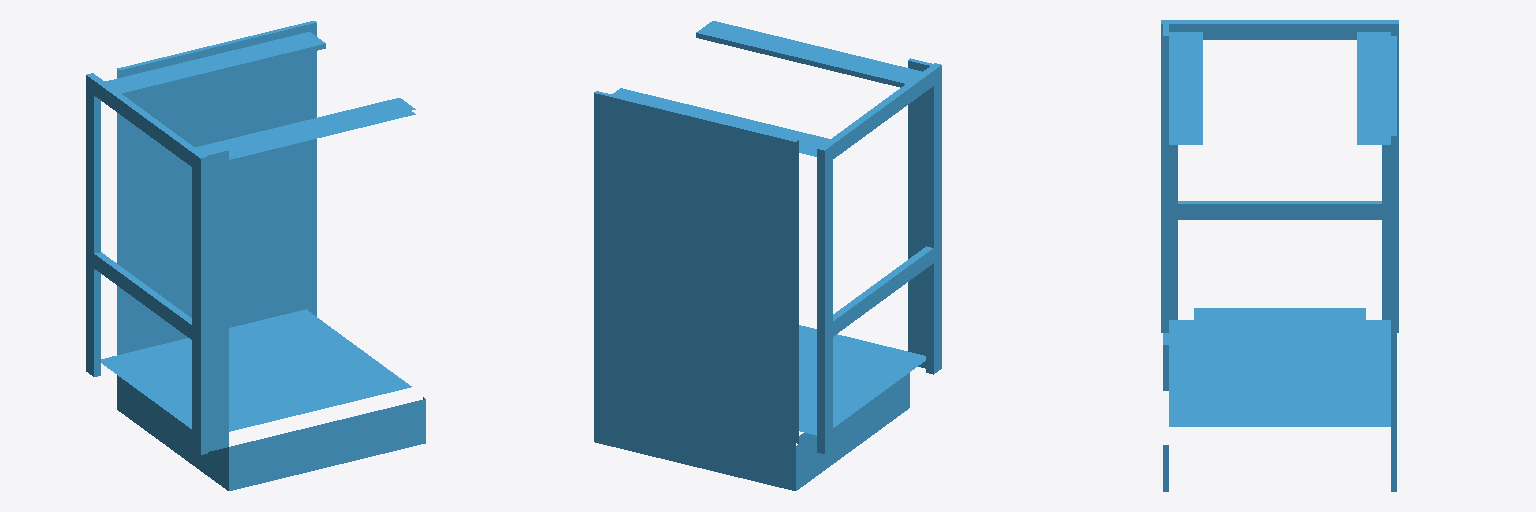
The robot description file, URDF, robot "partnet_2dc57230d14506eacd6ce29440b718cf":
<?xml version="1.0" ?>
<robot name="partnet_2dc57230d14506eacd6ce29440b718cf">
	<link name="base"/>
	<link name="link_0">
		<visual name="board-35">
			<origin xyz="0 0 0"/>
			<geometry>
				<mesh filename="textured_objs/original-28.obj"/>
			</geometry>
		</visual>
		<visual name="leg-11">
			<origin xyz="0 0 0"/>
			<geometry>
				<mesh filename="textured_objs/original-7.obj"/>
			</geometry>
		</visual>
		<visual name="leg-11">
			<origin xyz="0 0 0"/>
			<geometry>
				<mesh filename="textured_objs/original-6.obj"/>
			</geometry>
		</visual>
		<visual name="leg-12">
			<origin xyz="0 0 0"/>
			<geometry>
				<mesh filename="textured_objs/original-16.obj"/>
			</geometry>
		</visual>
		<visual name="leg-12">
			<origin xyz="0 0 0"/>
			<geometry>
				<mesh filename="textured_objs/original-15.obj"/>
			</geometry>
		</visual>
		<visual name="leg-13">
			<origin xyz="0 0 0"/>
			<geometry>
				<mesh filename="textured_objs/original-13.obj"/>
			</geometry>
		</visual>
		<visual name="leg-13">
			<origin xyz="0 0 0"/>
			<geometry>
				<mesh filename="textured_objs/original-12.obj"/>
			</geometry>
		</visual>
		<visual name="leg-14">
			<origin xyz="0 0 0"/>
			<geometry>
				<mesh filename="textured_objs/original-9.obj"/>
			</geometry>
		</visual>
		<visual name="leg-14">
			<origin xyz="0 0 0"/>
			<geometry>
				<mesh filename="textured_objs/original-10.obj"/>
			</geometry>
		</visual>
		<visual name="bar_stretcher-15">
			<origin xyz="0 0 0"/>
			<geometry>
				<mesh filename="textured_objs/original-21.obj"/>
			</geometry>
		</visual>
		<visual name="bar_stretcher-16">
			<origin xyz="0 0 0"/>
			<geometry>
				<mesh filename="textured_objs/original-22.obj"/>
			</geometry>
		</visual>
		<visual name="bar_stretcher-17">
			<origin xyz="0 0 0"/>
			<geometry>
				<mesh filename="textured_objs/original-19.obj"/>
			</geometry>
		</visual>
		<visual name="bar_stretcher-18">
			<origin xyz="0 0 0"/>
			<geometry>
				<mesh filename="textured_objs/original-20.obj"/>
			</geometry>
		</visual>
		<visual name="tabletop_connector-19">
			<origin xyz="0 0 0"/>
			<geometry>
				<mesh filename="textured_objs/new-0.obj"/>
			</geometry>
		</visual>
		<visual name="tabletop_connector-20">
			<origin xyz="0 0 0"/>
			<geometry>
				<mesh filename="textured_objs/new-1.obj"/>
			</geometry>
		</visual>
		<visual name="tabletop_connector-21">
			<origin xyz="0 0 0"/>
			<geometry>
				<mesh filename="textured_objs/new-2.obj"/>
			</geometry>
		</visual>
		<visual name="tabletop_connector-22">
			<origin xyz="0 0 0"/>
			<geometry>
				<mesh filename="textured_objs/new-3.obj"/>
			</geometry>
		</visual>
		<visual name="drawer_rails-28">
			<origin xyz="0 0 0"/>
			<geometry>
				<mesh filename="textured_objs/original-3.obj"/>
			</geometry>
		</visual>
		<visual name="drawer_rails-28">
			<origin xyz="0 0 0"/>
			<geometry>
				<mesh filename="textured_objs/original-2.obj"/>
			</geometry>
		</visual>
		<collision>
			<origin xyz="0 0 0"/>
			<geometry>
				<mesh filename="textured_objs/original-28.obj"/>
			</geometry>
		</collision>
		<collision>
			<origin xyz="0 0 0"/>
			<geometry>
				<mesh filename="textured_objs/original-7.obj"/>
			</geometry>
		</collision>
		<collision>
			<origin xyz="0 0 0"/>
			<geometry>
				<mesh filename="textured_objs/original-6.obj"/>
			</geometry>
		</collision>
		<collision>
			<origin xyz="0 0 0"/>
			<geometry>
				<mesh filename="textured_objs/original-16.obj"/>
			</geometry>
		</collision>
		<collision>
			<origin xyz="0 0 0"/>
			<geometry>
				<mesh filename="textured_objs/original-15.obj"/>
			</geometry>
		</collision>
		<collision>
			<origin xyz="0 0 0"/>
			<geometry>
				<mesh filename="textured_objs/original-13.obj"/>
			</geometry>
		</collision>
		<collision>
			<origin xyz="0 0 0"/>
			<geometry>
				<mesh filename="textured_objs/original-12.obj"/>
			</geometry>
		</collision>
		<collision>
			<origin xyz="0 0 0"/>
			<geometry>
				<mesh filename="textured_objs/original-9.obj"/>
			</geometry>
		</collision>
		<collision>
			<origin xyz="0 0 0"/>
			<geometry>
				<mesh filename="textured_objs/original-10.obj"/>
			</geometry>
		</collision>
		<collision>
			<origin xyz="0 0 0"/>
			<geometry>
				<mesh filename="textured_objs/original-21.obj"/>
			</geometry>
		</collision>
		<collision>
			<origin xyz="0 0 0"/>
			<geometry>
				<mesh filename="textured_objs/original-22.obj"/>
			</geometry>
		</collision>
		<collision>
			<origin xyz="0 0 0"/>
			<geometry>
				<mesh filename="textured_objs/original-19.obj"/>
			</geometry>
		</collision>
		<collision>
			<origin xyz="0 0 0"/>
			<geometry>
				<mesh filename="textured_objs/original-20.obj"/>
			</geometry>
		</collision>
		<collision>
			<origin xyz="0 0 0"/>
			<geometry>
				<mesh filename="textured_objs/new-0.obj"/>
			</geometry>
		</collision>
		<collision>
			<origin xyz="0 0 0"/>
			<geometry>
				<mesh filename="textured_objs/new-1.obj"/>
			</geometry>
		</collision>
		<collision>
			<origin xyz="0 0 0"/>
			<geometry>
				<mesh filename="textured_objs/new-2.obj"/>
			</geometry>
		</collision>
		<collision>
			<origin xyz="0 0 0"/>
			<geometry>
				<mesh filename="textured_objs/new-3.obj"/>
			</geometry>
		</collision>
		<collision>
			<origin xyz="0 0 0"/>
			<geometry>
				<mesh filename="textured_objs/original-3.obj"/>
			</geometry>
		</collision>
		<collision>
			<origin xyz="0 0 0"/>
			<geometry>
				<mesh filename="textured_objs/original-2.obj"/>
			</geometry>
		</collision>
	</link>
	<joint name="joint_0" type="fixed">
		<origin rpy="1.570796326794897 0 -1.570796326794897" xyz="0 0 0"/>
		<child link="link_0"/>
		<parent link="base"/>
	</joint>
	<link name="link_1">
		<visual name="handle-27">
			<origin xyz="0 0 0"/>
			<geometry>
				<mesh filename="textured_objs/new-4.obj"/>
			</geometry>
		</visual>
		<visual name="drawer_front-29">
			<origin xyz="0 0 0"/>
			<geometry>
				<mesh filename="textured_objs/new-5.obj"/>
			</geometry>
		</visual>
		<visual name="drawer_side-30">
			<origin xyz="0 0 0"/>
			<geometry>
				<mesh filename="textured_objs/new-9.obj"/>
			</geometry>
		</visual>
		<visual name="drawer_side-31">
			<origin xyz="0 0 0"/>
			<geometry>
				<mesh filename="textured_objs/new-7.obj"/>
			</geometry>
		</visual>
		<visual name="drawer_back-32">
			<origin xyz="0 0 0"/>
			<geometry>
				<mesh filename="textured_objs/new-8.obj"/>
			</geometry>
		</visual>
		<visual name="drawer_bottom-33">
			<origin xyz="0 0 0"/>
			<geometry>
				<mesh filename="textured_objs/new-6.obj"/>
			</geometry>
		</visual>
		<visual name="drawer_side-36">
			<origin xyz="0 0 0"/>
			<geometry>
				<mesh filename="textured_objs/new-11.obj"/>
			</geometry>
		</visual>
		<visual name="drawer_side-36">
			<origin xyz="0 0 0"/>
			<geometry>
				<mesh filename="textured_objs/new-10.obj"/>
			</geometry>
		</visual>
		<collision>
			<origin xyz="0 0 0"/>
			<geometry>
				<mesh filename="textured_objs/new-4.obj"/>
			</geometry>
		</collision>
		<collision>
			<origin xyz="0 0 0"/>
			<geometry>
				<mesh filename="textured_objs/new-5.obj"/>
			</geometry>
		</collision>
		<collision>
			<origin xyz="0 0 0"/>
			<geometry>
				<mesh filename="textured_objs/new-9.obj"/>
			</geometry>
		</collision>
		<collision>
			<origin xyz="0 0 0"/>
			<geometry>
				<mesh filename="textured_objs/new-7.obj"/>
			</geometry>
		</collision>
		<collision>
			<origin xyz="0 0 0"/>
			<geometry>
				<mesh filename="textured_objs/new-8.obj"/>
			</geometry>
		</collision>
		<collision>
			<origin xyz="0 0 0"/>
			<geometry>
				<mesh filename="textured_objs/new-6.obj"/>
			</geometry>
		</collision>
		<collision>
			<origin xyz="0 0 0"/>
			<geometry>
				<mesh filename="textured_objs/new-11.obj"/>
			</geometry>
		</collision>
		<collision>
			<origin xyz="0 0 0"/>
			<geometry>
				<mesh filename="textured_objs/new-10.obj"/>
			</geometry>
		</collision>
	</link>
	<joint name="joint_1" type="prismatic">
		<origin xyz="0 0 0"/>
		<axis xyz="0 0 1"/>
		<child link="link_1"/>
		<parent link="link_0"/>
		<limit lower="0" upper="0.43199999999999994"/>
	</joint>
</robot>

--- What the picture shows (computed from the rendered views, not written in the file) ---
Views: 3 orthographic renders of the robot side by side, from view 1: azimuth 30°, elevation 25°; view 2: azimuth 150°, elevation 25°; view 3: azimuth 270°, elevation 25°.
Model partnet_2dc57230d14506eacd6ce29440b718cf with 3 links and 2 joints (1 prismatic, 1 fixed), rooted at base, posed every joint at zero.
Visible links, largest first — view 1: link_0; view 2: link_0; view 3: link_0.
Boxes of the visible links, <box> form: link_0: <box>86,21,425,490</box>; link_0: <box>594,21,941,490</box>; link_0: <box>1161,20,1398,491</box>.
Bounding box of the posed robot: 1.03 × 0.9008 × 1.48 m (x, y, z).
13 mesh visuals loaded from 27 distinct referenced files (13 OBJ); not drawn: 14 (reference not matched to a file when rendering).